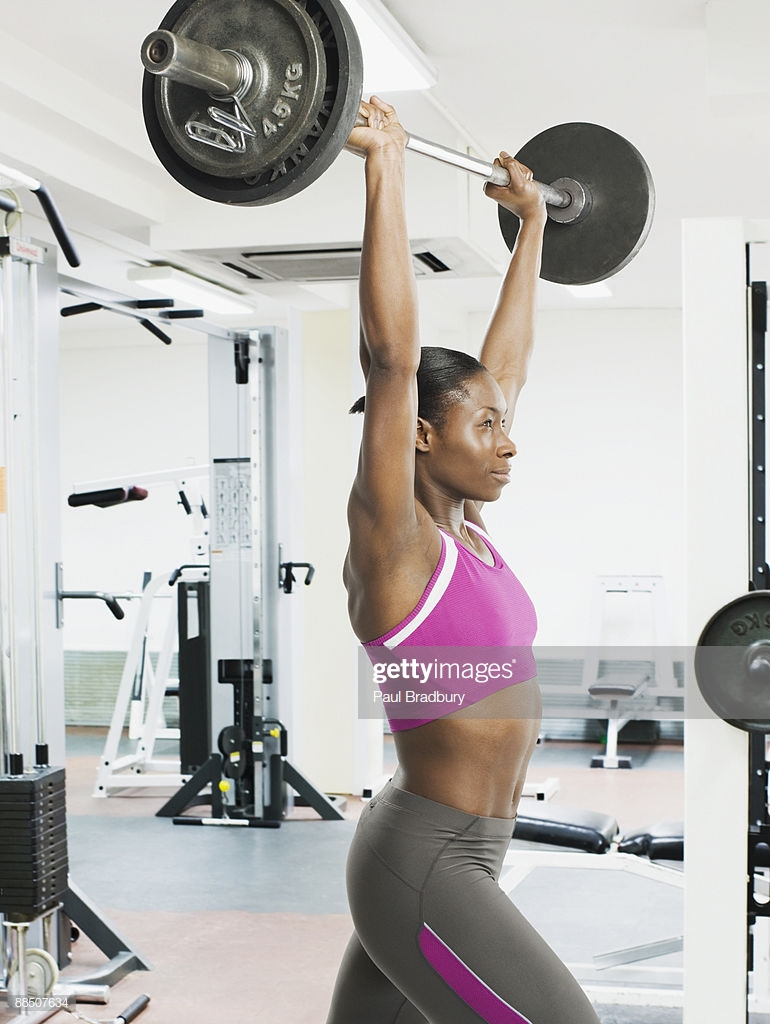barbell: (122, 1, 373, 206), (692, 581, 770, 737)
